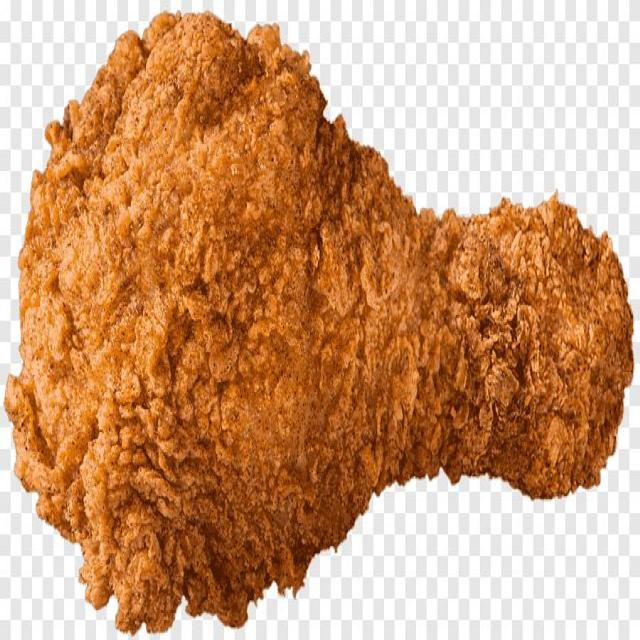Frango: (5, 13, 634, 634)
